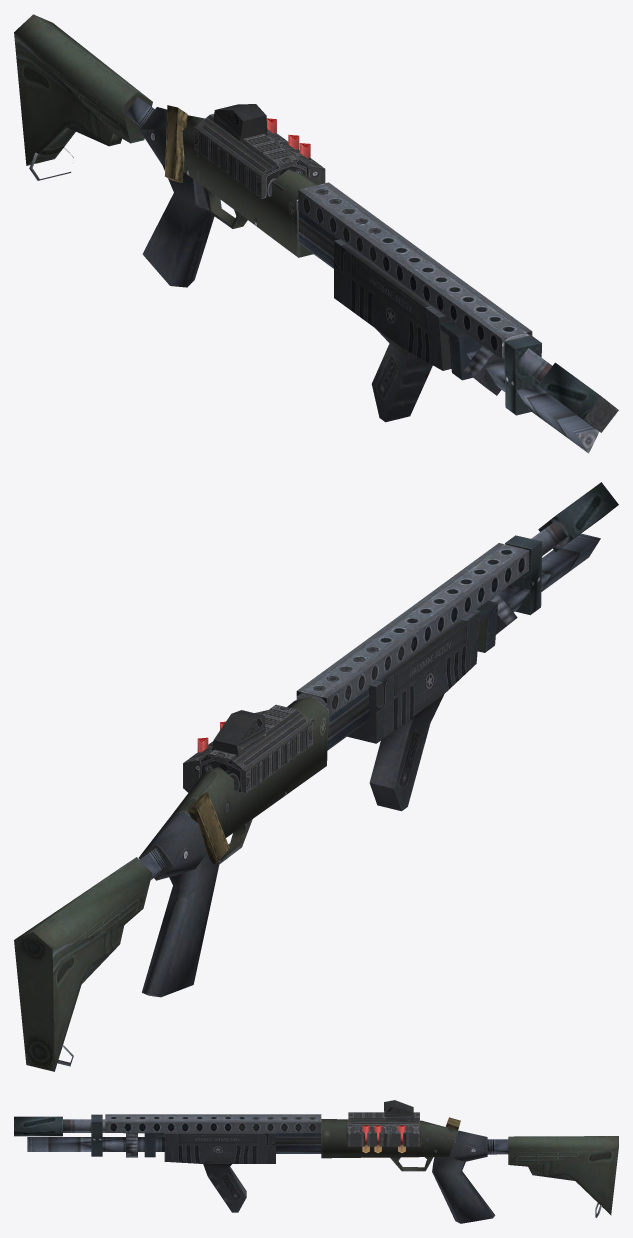
The model's file is Shotgun_sdq_01_lod2_Body_LOD_(000596).glb.
3 views of the same model, one above another, from view 1: azimuth 30°, elevation 25°; view 2: azimuth 150°, elevation 25°; view 3: azimuth 270°, elevation 25° (orthographic). The views are drawn at different scales.
Parts seen in each view (by area): view 1: sdq_01_lod2; view 2: sdq_01_lod2; view 3: sdq_01_lod2.
Boxes of the visible parts, <box> form: sdq_01_lod2: <box>14,14,618,453</box>; sdq_01_lod2: <box>14,482,618,1071</box>; sdq_01_lod2: <box>14,1100,618,1223</box>.
Size of the model in its own units: 0.1116 by 0.3543 by 1.65.
Materials: 1 (1 with a texture image).
